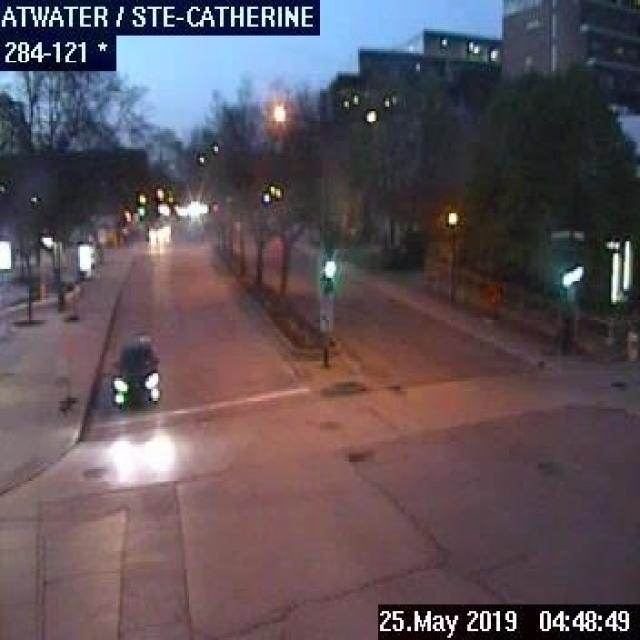construction: (482, 280, 500, 318)
vehicle: (107, 332, 160, 411)
